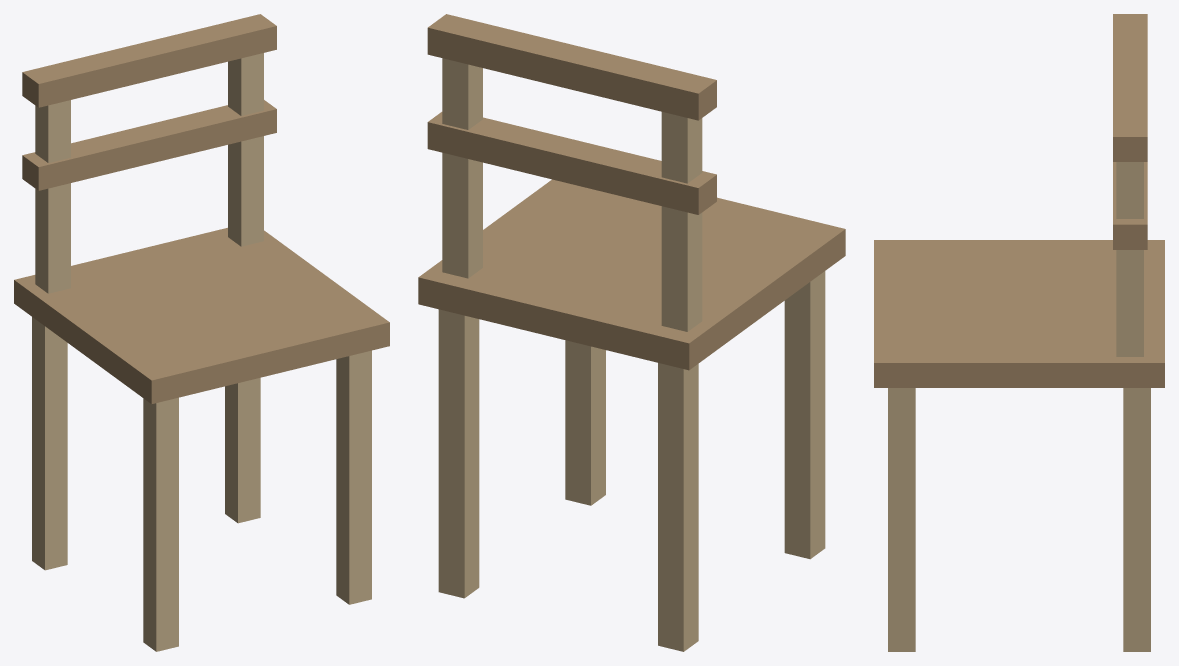
The model's file is mdl_furniture_chair_wood_001.glb.
3 views of the same model, side by side, from view 1: azimuth 30°, elevation 25°; view 2: azimuth 150°, elevation 25°; view 3: azimuth 270°, elevation 25° (orthographic). The views are drawn at different scales.
Parts seen in each view (by area): view 1: m_madera, m_madera_clara; view 2: m_madera, m_madera_clara; view 3: m_madera, m_madera_clara.
Boxes of the visible parts, x1,y1,x2,y2 form: m_madera: (14,14,389,404); m_madera_clara: (32,53,371,651); m_madera: (418,14,845,370); m_madera_clara: (438,58,825,651); m_madera: (874,14,1164,387); m_madera_clara: (888,162,1150,651).
Size of the model in its own units: 0.42 by 0.83 by 0.42.
